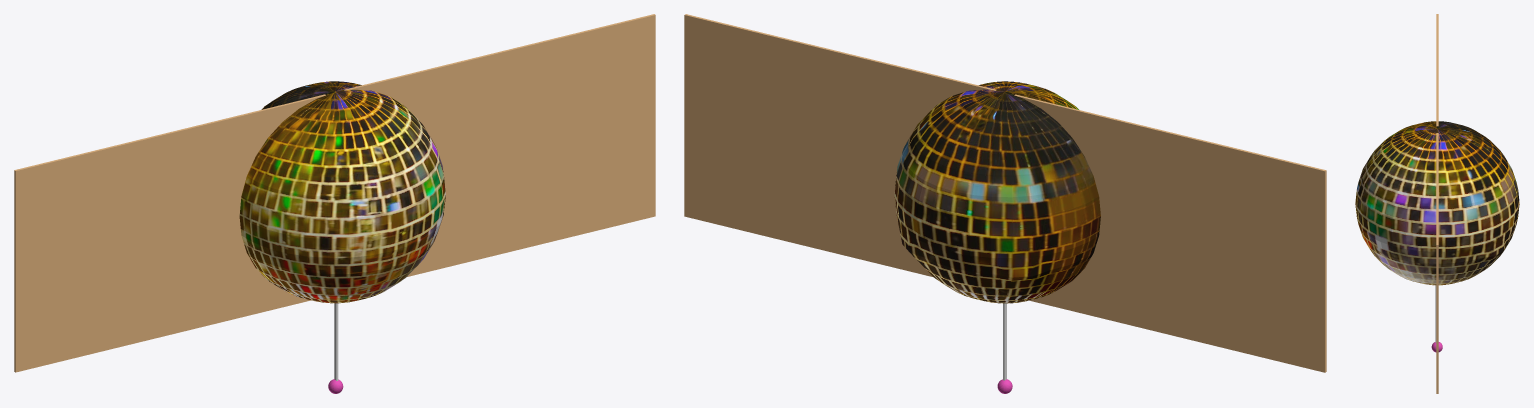
File: satellite2.glb
3 renders of one model, left to right at view 1: azimuth 30°, elevation 25°; view 2: azimuth 150°, elevation 25°; view 3: azimuth 270°, elevation 25°, orthographic. The views are drawn at different scales.
Parts seen in each view (by area): view 1: Cube, Sphere; view 2: Cube, Sphere; view 3: Sphere, Cube.
Part boxes in pixels (<box>): Cube: <box>14,14,655,372</box>; Sphere: <box>239,81,445,303</box>; Cube: <box>684,14,1326,372</box>; Sphere: <box>894,81,1100,303</box>; Sphere: <box>1355,121,1519,285</box>; Cube: <box>1436,14,1438,393</box>.
Bounding box in the file's own units: 6.65 × 3 × 2.
3 materials, 1 textured.
